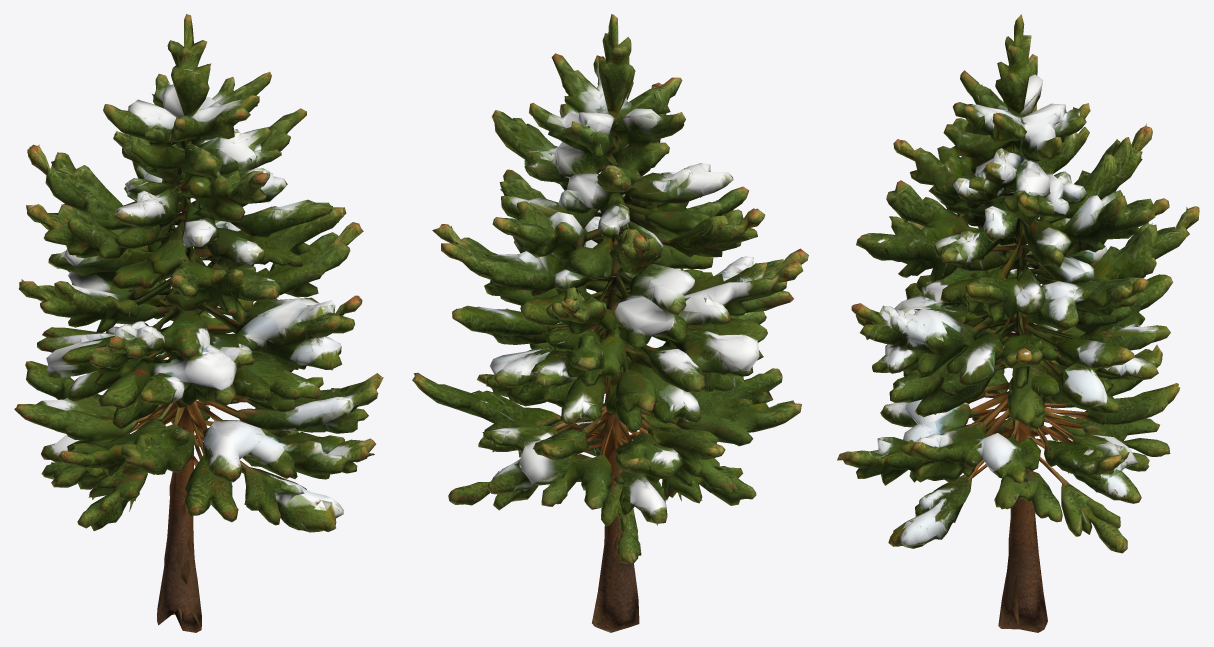
File: spruce_3_lod0.glb
The picture shows the model from 3 angles, left to right: view 1: azimuth 30°, elevation 25°; view 2: azimuth 150°, elevation 25°; view 3: azimuth 270°, elevation 25°; orthographic projection.
Parts seen in each view (by area): view 1: Spruce_3_LOD0; view 2: Spruce_3_LOD0; view 3: Spruce_3_LOD0.
Part boxes in pixels (left/top/right/bottom): Spruce_3_LOD0: left=14, top=14, right=383, bottom=632; Spruce_3_LOD0: left=412, top=14, right=808, bottom=632; Spruce_3_LOD0: left=837, top=14, right=1199, bottom=632.
Bounding box in the file's own units: 6.43 × 10.5 × 5.63.
1 material, 1 textured.
